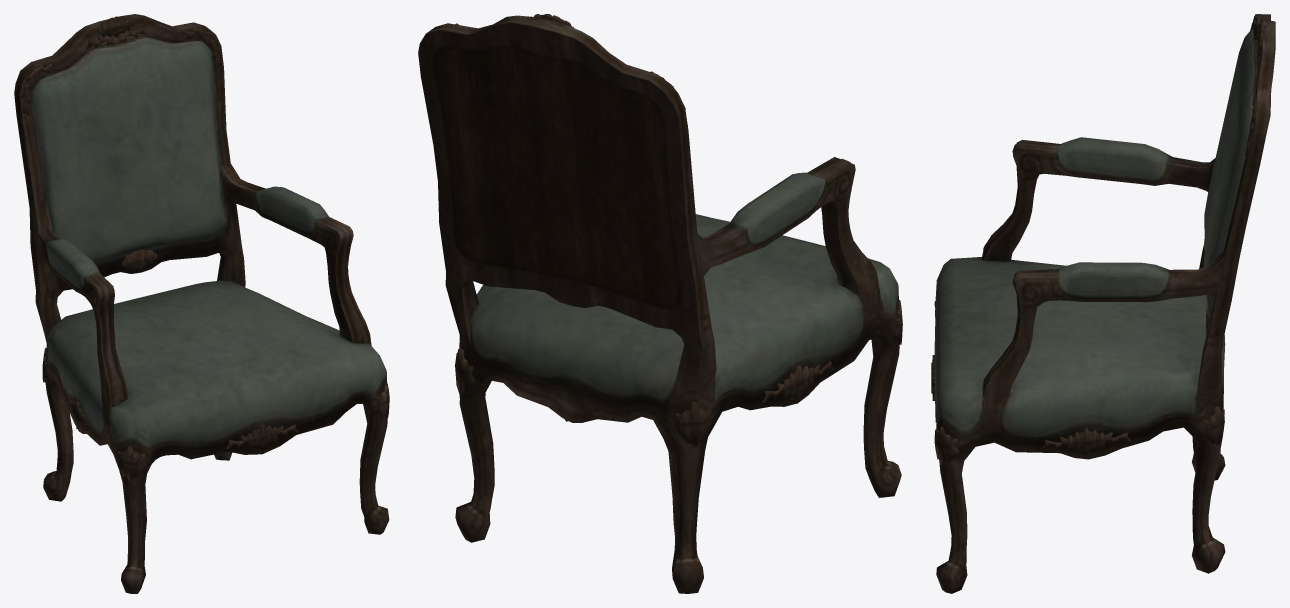
Rendered from greenchair_01.glb.
3 renders of one model, left to right at view 1: azimuth 30°, elevation 25°; view 2: azimuth 150°, elevation 25°; view 3: azimuth 270°, elevation 25°, orthographic. The views are drawn at different scales.
Visible parts, largest first — view 1: GreenChair_01; view 2: GreenChair_01; view 3: GreenChair_01.
Part boxes in pixels (bbox=[...]): GreenChair_01: bbox=[14, 14, 389, 593]; GreenChair_01: bbox=[418, 14, 902, 593]; GreenChair_01: bbox=[931, 14, 1275, 593].
Bounding box in the file's own units: 0.6731 × 1.06 × 0.6644.
Materials: 1 (1 with a texture image).
